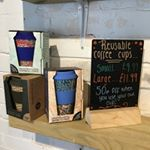other: (49, 68, 82, 117), (13, 30, 39, 69), (7, 76, 32, 114)
